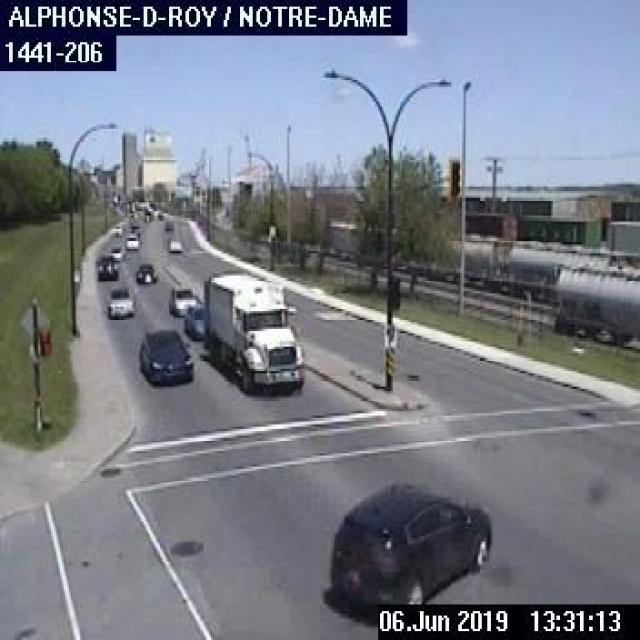vehicle: (327, 482, 493, 616), (200, 269, 304, 398), (136, 318, 195, 390), (164, 283, 199, 318), (182, 301, 203, 343), (107, 286, 133, 316), (96, 254, 117, 276), (134, 262, 156, 282), (106, 242, 126, 262), (165, 233, 182, 251), (124, 233, 138, 249)
